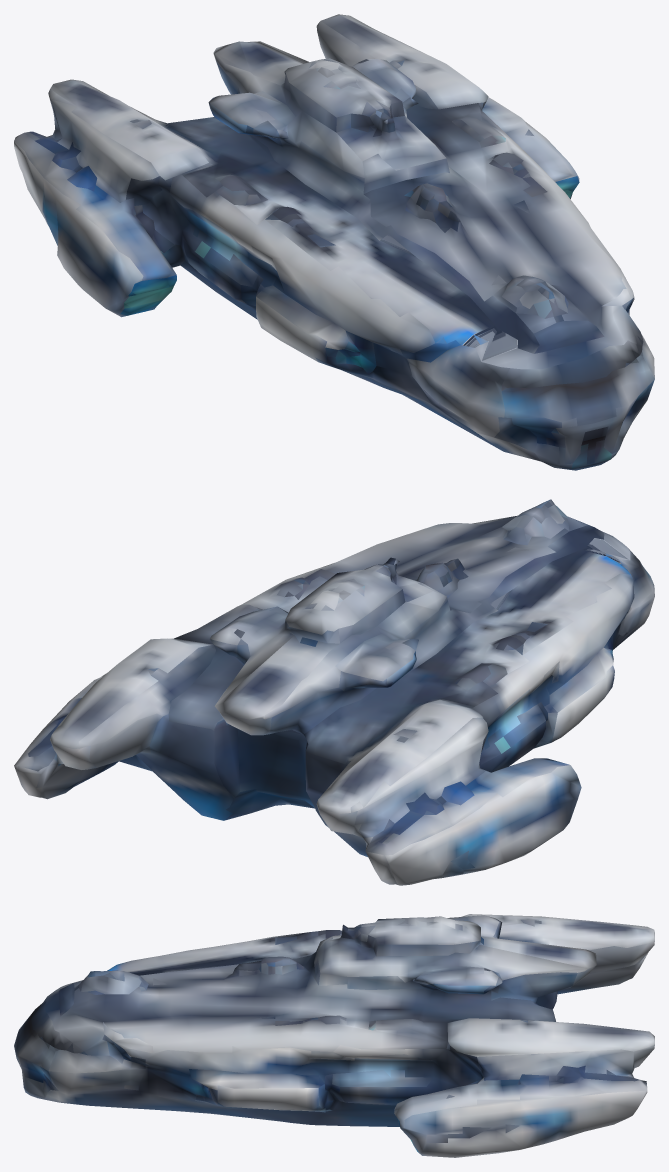
Rendered from alliance_battleship_lod2.glb.
3 renders of one model, top to bottom at view 1: azimuth 30°, elevation 25°; view 2: azimuth 150°, elevation 25°; view 3: azimuth 270°, elevation 25°, orthographic. The views are drawn at different scales.
Parts seen in each view (by area): view 1: model; view 2: model; view 3: model.
Part boxes in pixels (x1,y1,x2,y2): model: (14, 14, 654, 470); model: (14, 499, 654, 885); model: (14, 914, 654, 1157).
Bounding box in the file's own units: 1.23 × 0.5907 × 1.88.
Materials: 1 (1 with a texture image).
